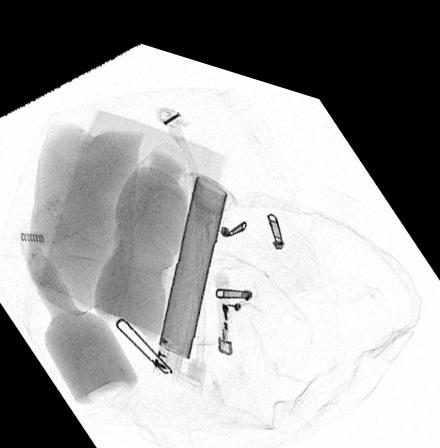Lighter: (215, 284, 232, 341)
